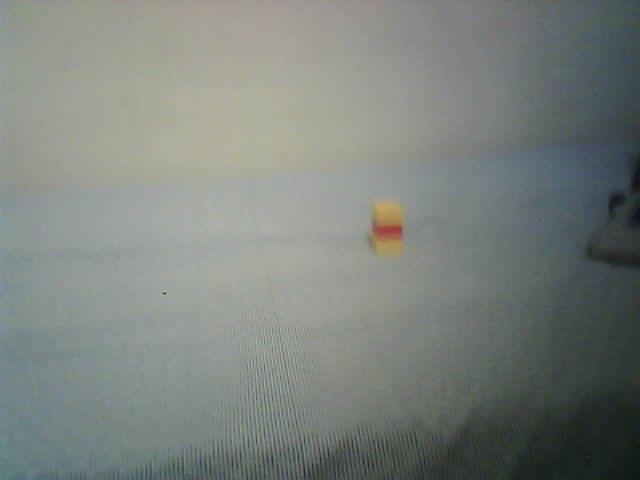lego: (369, 200, 405, 256)
